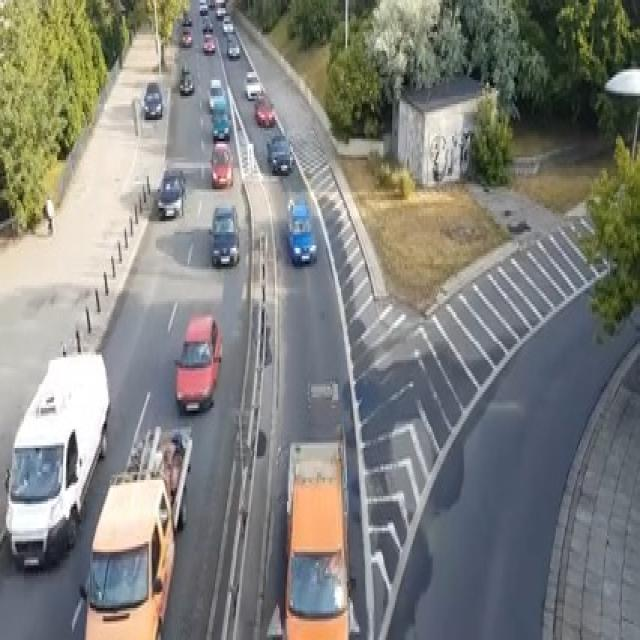bus: (3, 344, 110, 568), (282, 432, 350, 637)
car: (70, 472, 176, 637), (125, 424, 192, 531), (173, 312, 222, 413), (285, 195, 317, 264), (207, 202, 239, 266), (156, 168, 185, 219), (266, 134, 293, 174), (210, 141, 233, 187), (143, 80, 162, 117), (207, 77, 227, 112), (266, 600, 284, 637), (254, 94, 275, 125), (210, 110, 230, 142), (243, 69, 263, 99), (179, 64, 194, 93), (226, 34, 240, 59), (202, 32, 216, 53), (179, 27, 192, 45), (221, 13, 233, 32), (202, 16, 214, 32), (215, 0, 225, 16), (182, 11, 192, 24), (198, 0, 207, 13)
